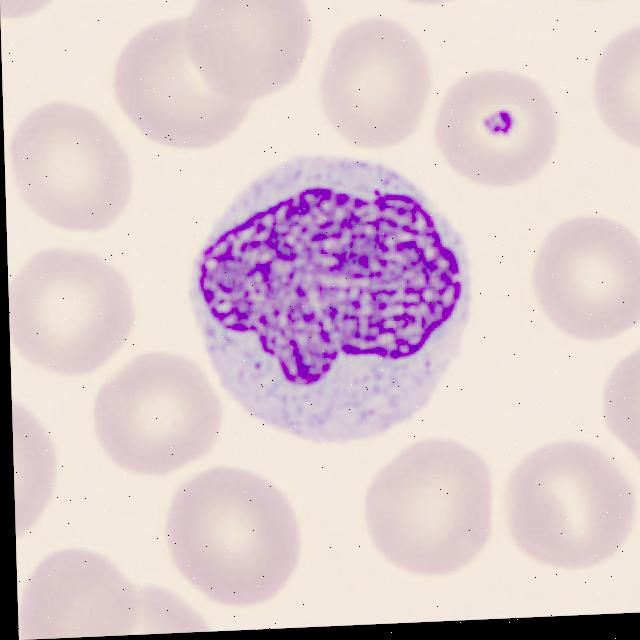monocyte: (184, 150, 472, 463)
platelets: (471, 102, 523, 151)
rbc: (115, 8, 263, 156), (167, 458, 306, 615), (5, 96, 145, 241), (504, 447, 640, 582), (427, 62, 564, 194), (85, 348, 222, 480), (7, 239, 132, 383), (360, 439, 493, 574), (174, 0, 324, 109), (526, 209, 640, 349), (314, 24, 437, 153), (16, 539, 143, 640), (12, 396, 60, 561), (592, 22, 640, 169), (91, 584, 221, 637), (595, 342, 640, 483)
